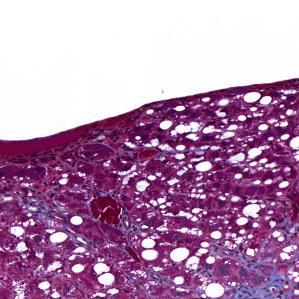fibrosis: (225, 268, 299, 299)
